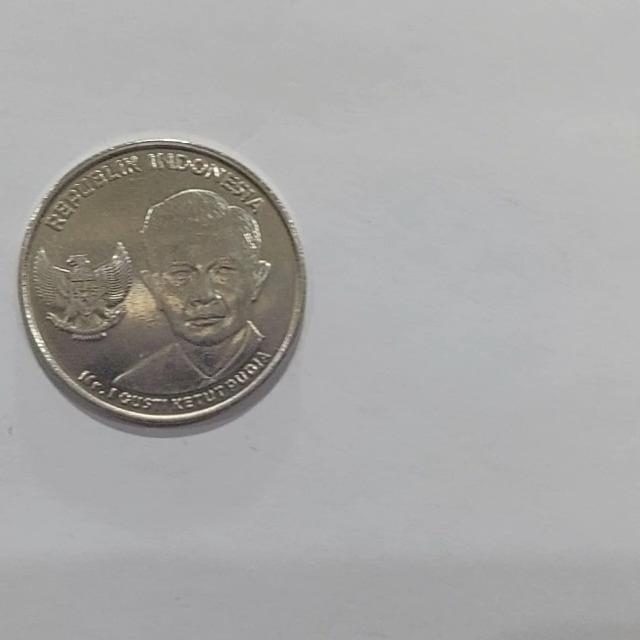Rp100: (17, 136, 307, 428), (103, 185, 275, 399)
